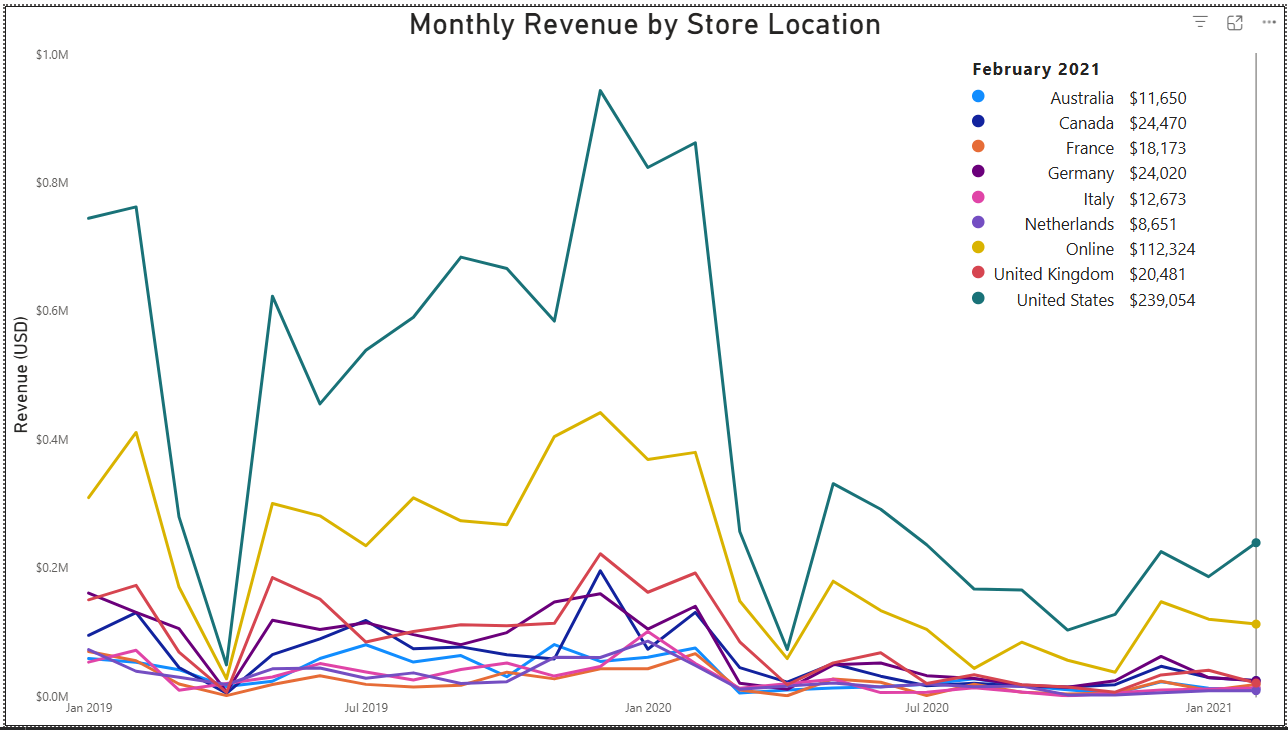

This screenshot's page, from the dashboard's own definition file:
{"tool":"powerbi","page":{"name":"Monthly Revenue by Store Location","canvas":[1280,720],"ordinal":6},"visuals":[{"type":"lineChart","title":"Monthly Revenue by Store Location","fields":{"Y":["Sum(tbl_qry_sales_cleaned.usd_price)"],"Category":["tbl_qry_sales_cleaned.order_month"],"Series":["tbl_qry_stores.Country"]},"box":[0,0,1280.3,720.4],"z":0}]}

Visuals, with their boxes in screenshot pixels (x1, y1, x2, y2), scaled from the page's 1280x720 canvas onto the 1288x730 screenshot:
"Monthly Revenue by Store Location" lineChart: x1=0 y1=0 x2=1287 y2=729
